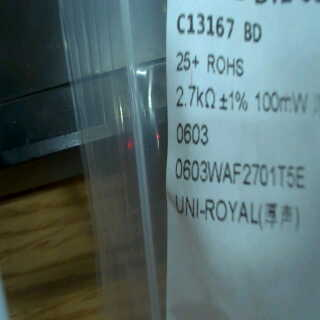2.7kR: (172, 80, 223, 116)
